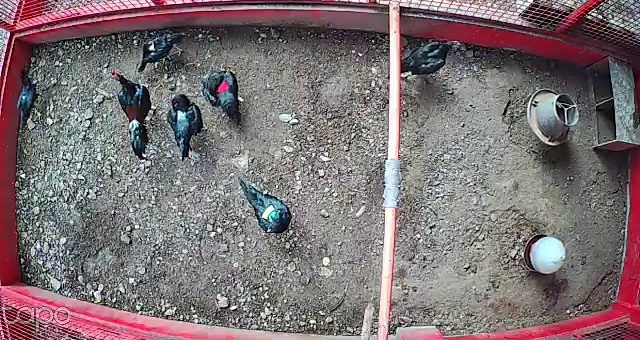Chicken: (194, 64, 250, 129), (239, 170, 295, 235), (162, 90, 208, 159), (393, 39, 463, 84), (131, 26, 183, 75)
Rooster: (106, 64, 158, 161)
Saddle_Color_Red: (216, 81, 229, 93)
Saddle_Color_YellowGreen: (262, 204, 280, 223)
